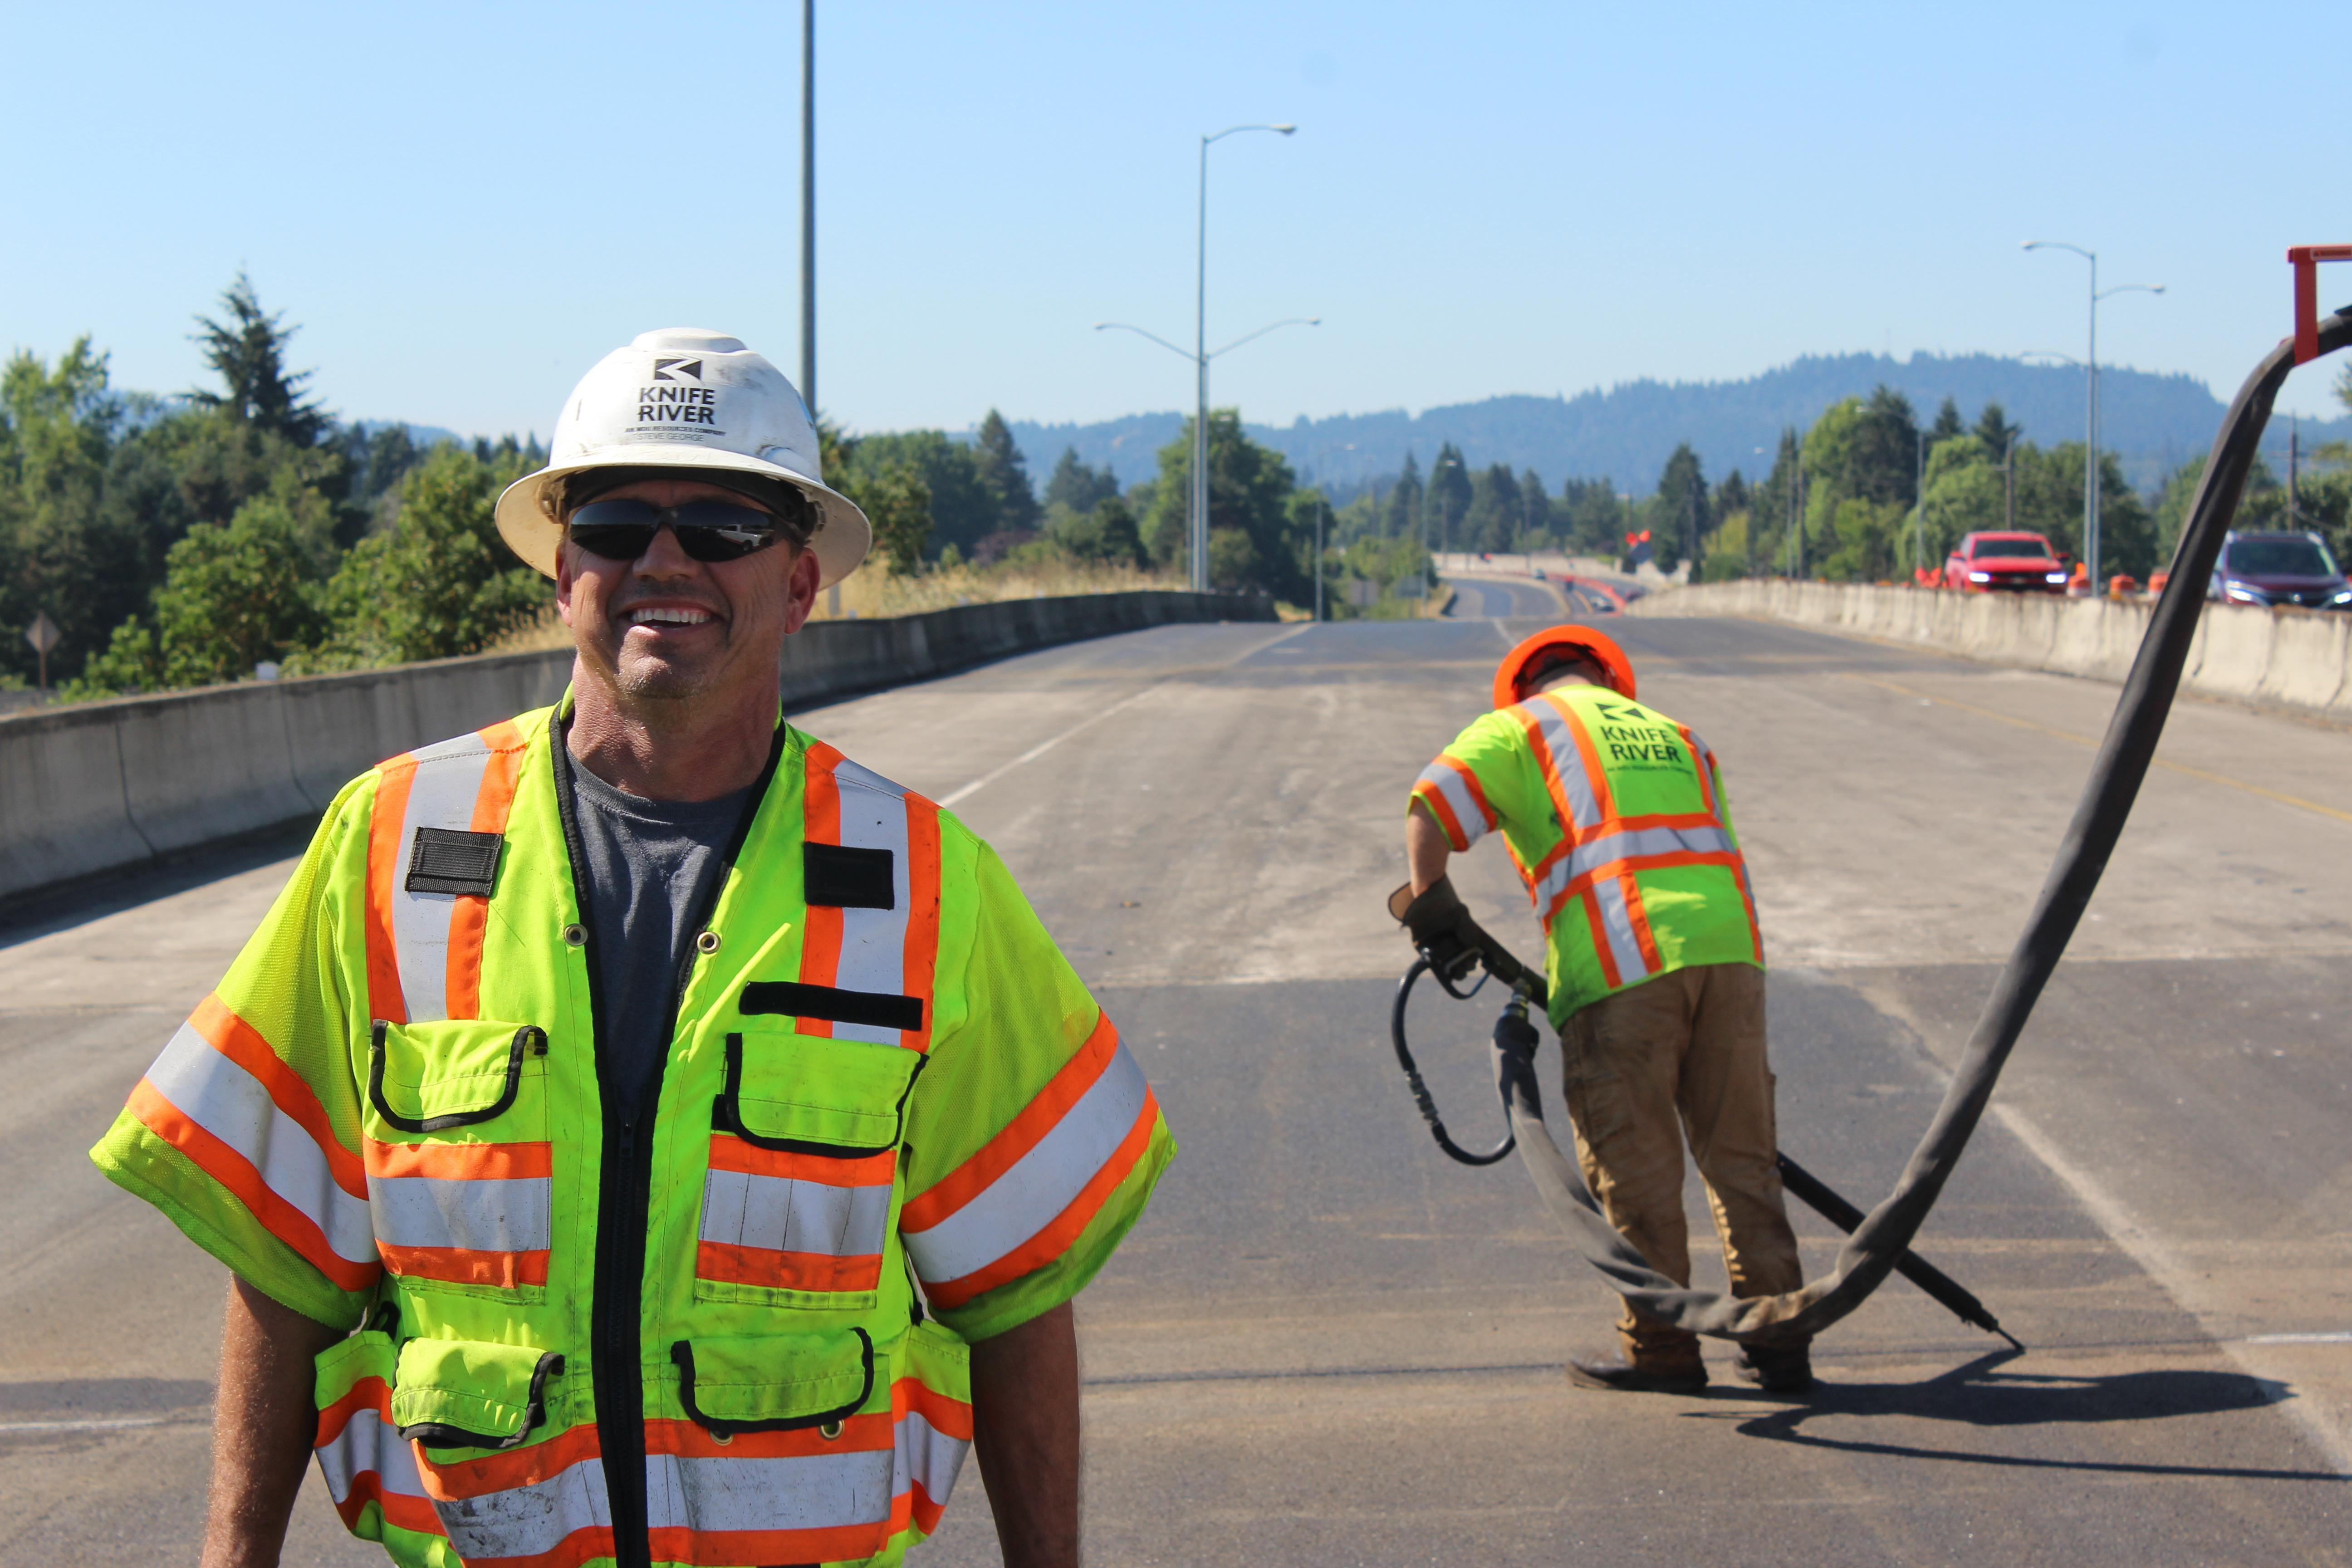helmet: (499, 320, 866, 583), (1491, 623, 1647, 705)
